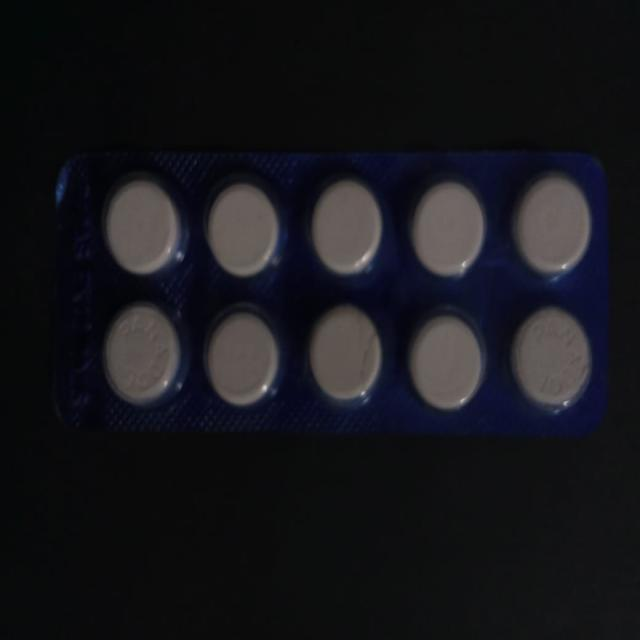defect: (307, 301, 387, 407)
